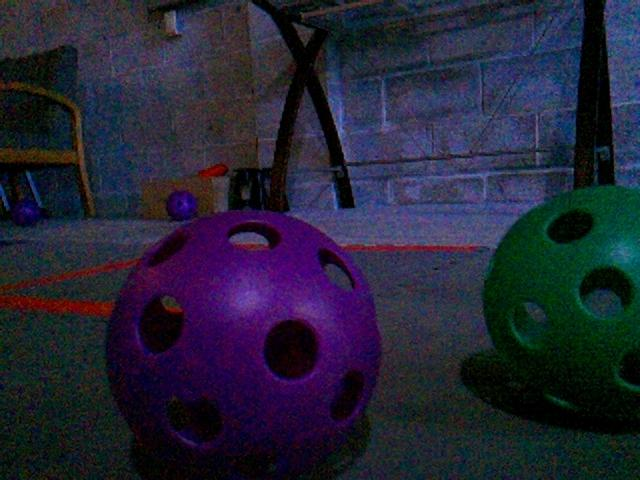Green: (478, 186, 640, 425)
Purple: (105, 213, 382, 479), (165, 190, 198, 221), (10, 199, 42, 226)
